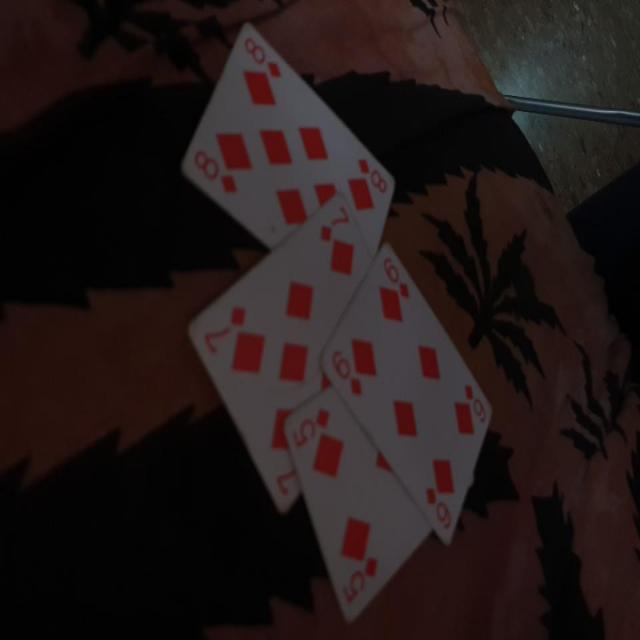5 Diamonds: (282, 386, 435, 626)
6 Diamonds: (320, 243, 493, 546)
7 Diamonds: (187, 194, 374, 517)
8 Diamonds: (176, 22, 397, 266)
